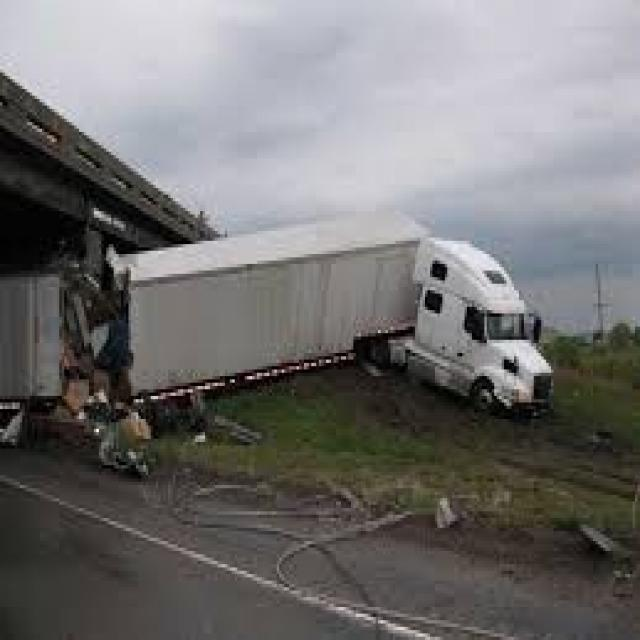accident: (99, 195, 640, 521)
